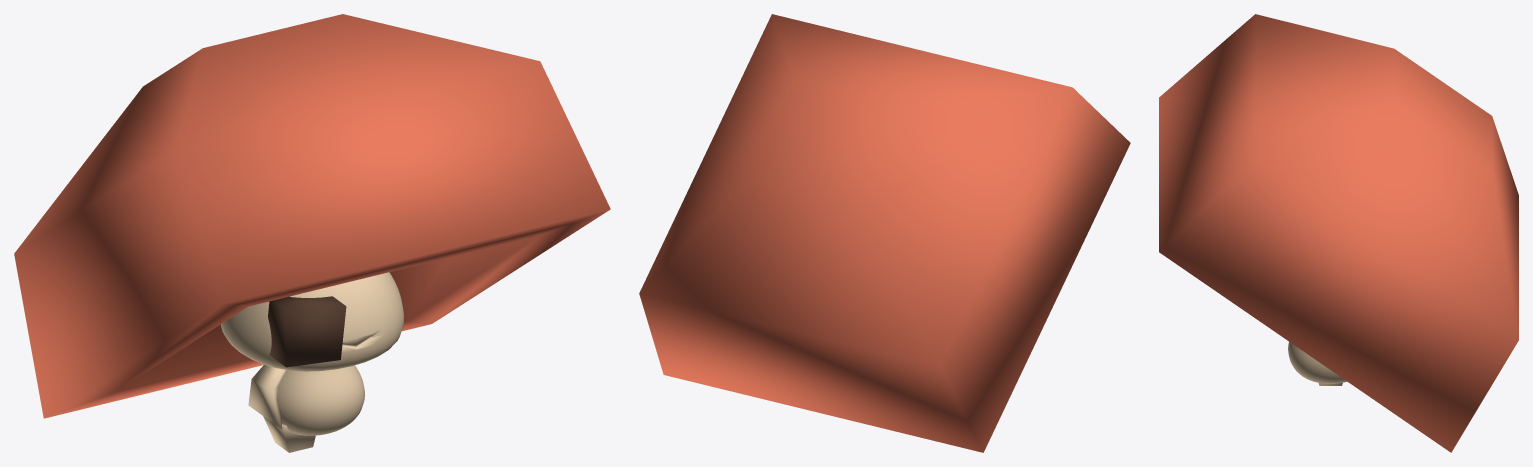
The model's file is bum.glb.
The picture shows the model from 3 angles, left to right: view 1: azimuth 30°, elevation 25°; view 2: azimuth 150°, elevation 25°; view 3: azimuth 270°, elevation 25°; orthographic projection. The views are drawn at different scales.
Visible parts, largest first — view 1: Cube, Cube.001, Cube.004, Cube.003, Cube.002; view 2: Cube; view 3: Cube, Cube.001.
Part boxes in pixels (x1,y1,x2,y2): Cube: [14, 14, 610, 418]; Cube.001: [220, 272, 403, 435]; Cube.004: [268, 296, 346, 367]; Cube.003: [248, 364, 285, 429]; Cube.002: [263, 416, 315, 452]; Cube: [639, 14, 1130, 452]; Cube: [1159, 14, 1518, 452]; Cube.001: [1288, 342, 1347, 383].
Bounding box in the file's own units: 4.25 × 3.99 × 4.17.
